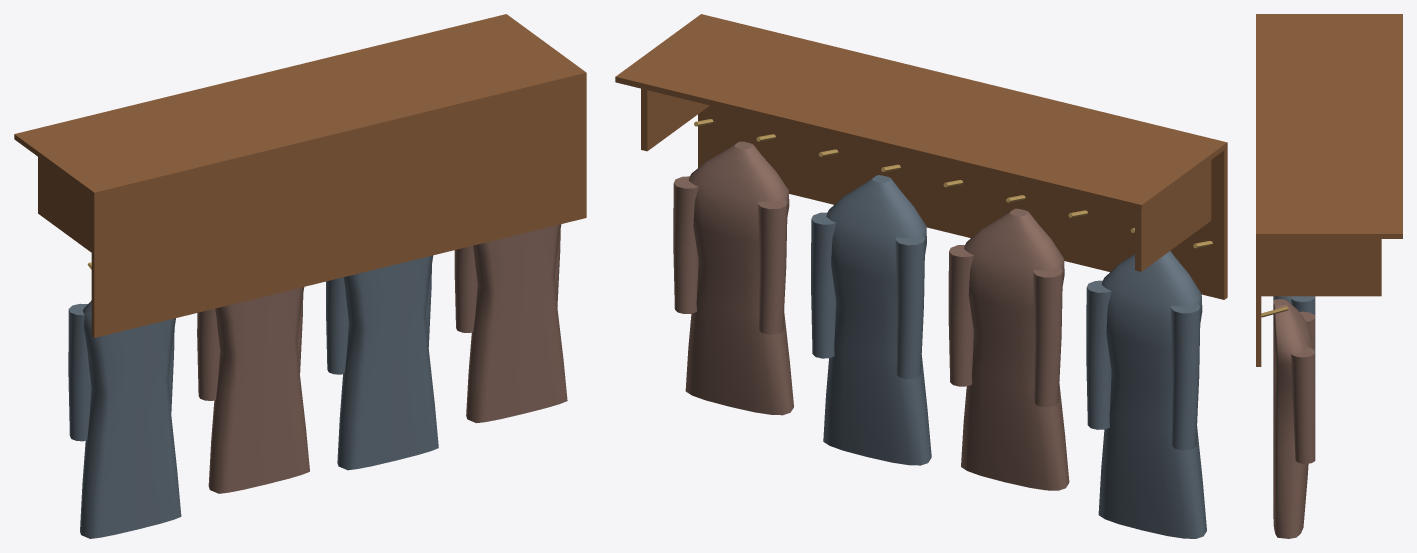
The model's file is parametric-wall-coat-rack-1st-1950x0550x1950.glb.
3 views of the same model, side by side, from view 1: azimuth 30°, elevation 25°; view 2: azimuth 150°, elevation 25°; view 3: azimuth 270°, elevation 25° (orthographic). The views are drawn at different scales.
Visible parts, largest first — view 1: backboard, hat-shelf, coat:0, coat:2, coat:1, coat:3, bracket:-1, coat-sleeve:0:-1, coat-sleeve:2:-1, coat-sleeve:1:-1, coat-sleeve:3:-1; view 2: hat-shelf, backboard, coat:2, coat:0, coat:1, coat:3, bracket:-1, coat-sleeve:0:-1, coat-sleeve:2:-1, coat-sleeve:1:-1, coat-sleeve:3:-1, coat-sleeve:0:1 (+4 smaller); view 3: hat-shelf, bracket:1, coat:3, coat-sleeve:3:1, backboard, coat-sleeve:2:1, coat-sleeve:3:-1.
Part boxes in pixels (x1,y1,x2,y2): backboard: [91, 78, 586, 337]; hat-shelf: [14, 14, 586, 197]; coat:0: [80, 300, 181, 538]; coat:2: [337, 255, 438, 470]; coat:1: [208, 287, 309, 493]; coat:3: [466, 224, 567, 423]; bracket:-1: [38, 157, 91, 252]; coat-sleeve:0:-1: [68, 303, 91, 441]; coat-sleeve:2:-1: [326, 277, 348, 374]; coat-sleeve:1:-1: [197, 308, 220, 400]; coat-sleeve:3:-1: [454, 245, 477, 332]; hat-shelf: [615, 14, 1227, 210]; backboard: [698, 105, 1227, 299]; coat:2: [823, 175, 931, 465]; coat:0: [1098, 251, 1206, 538]; coat:1: [961, 208, 1069, 490]; coat:3: [685, 141, 793, 415]; bracket:-1: [1135, 160, 1211, 271]; coat-sleeve:0:-1: [1170, 303, 1200, 450]; coat-sleeve:2:-1: [895, 235, 925, 378]; coat-sleeve:1:-1: [1033, 267, 1062, 407]; coat-sleeve:3:-1: [758, 199, 787, 334]; coat-sleeve:0:1: [1086, 280, 1111, 429]; hat-shelf: [1256, 14, 1402, 238]; bracket:1: [1261, 239, 1381, 296]; coat:3: [1273, 299, 1313, 538]; coat-sleeve:3:1: [1291, 347, 1315, 463]; backboard: [1256, 239, 1261, 366]; coat-sleeve:2:1: [1291, 296, 1315, 387]; coat-sleeve:3:-1: [1299, 311, 1315, 423].
Bounding box in the file's own units: 1.95 × 1.35 × 0.55.
